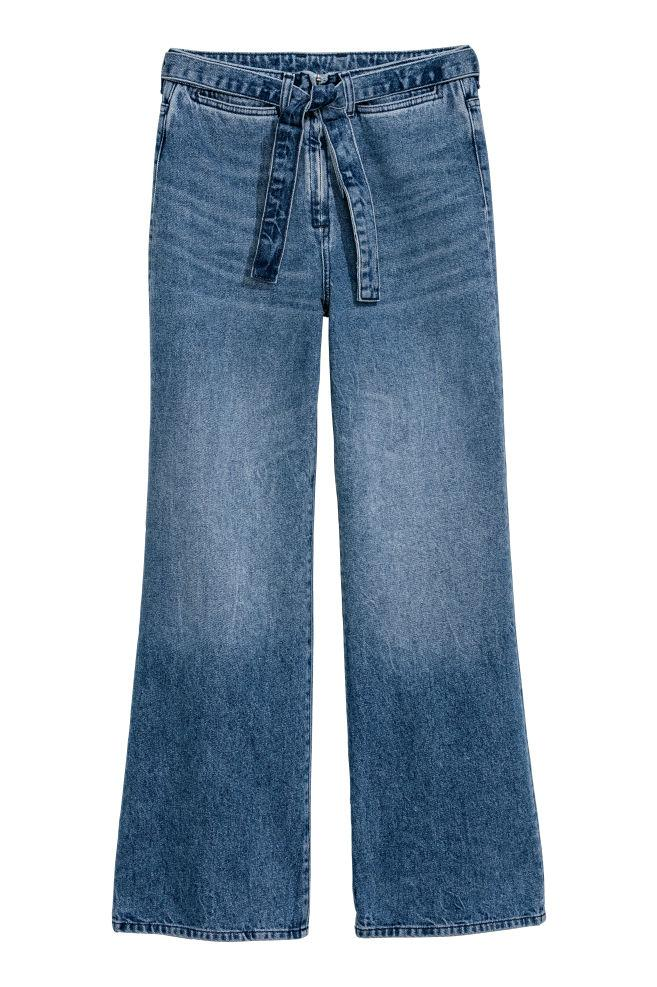Jeans: (105, 35, 553, 947)
